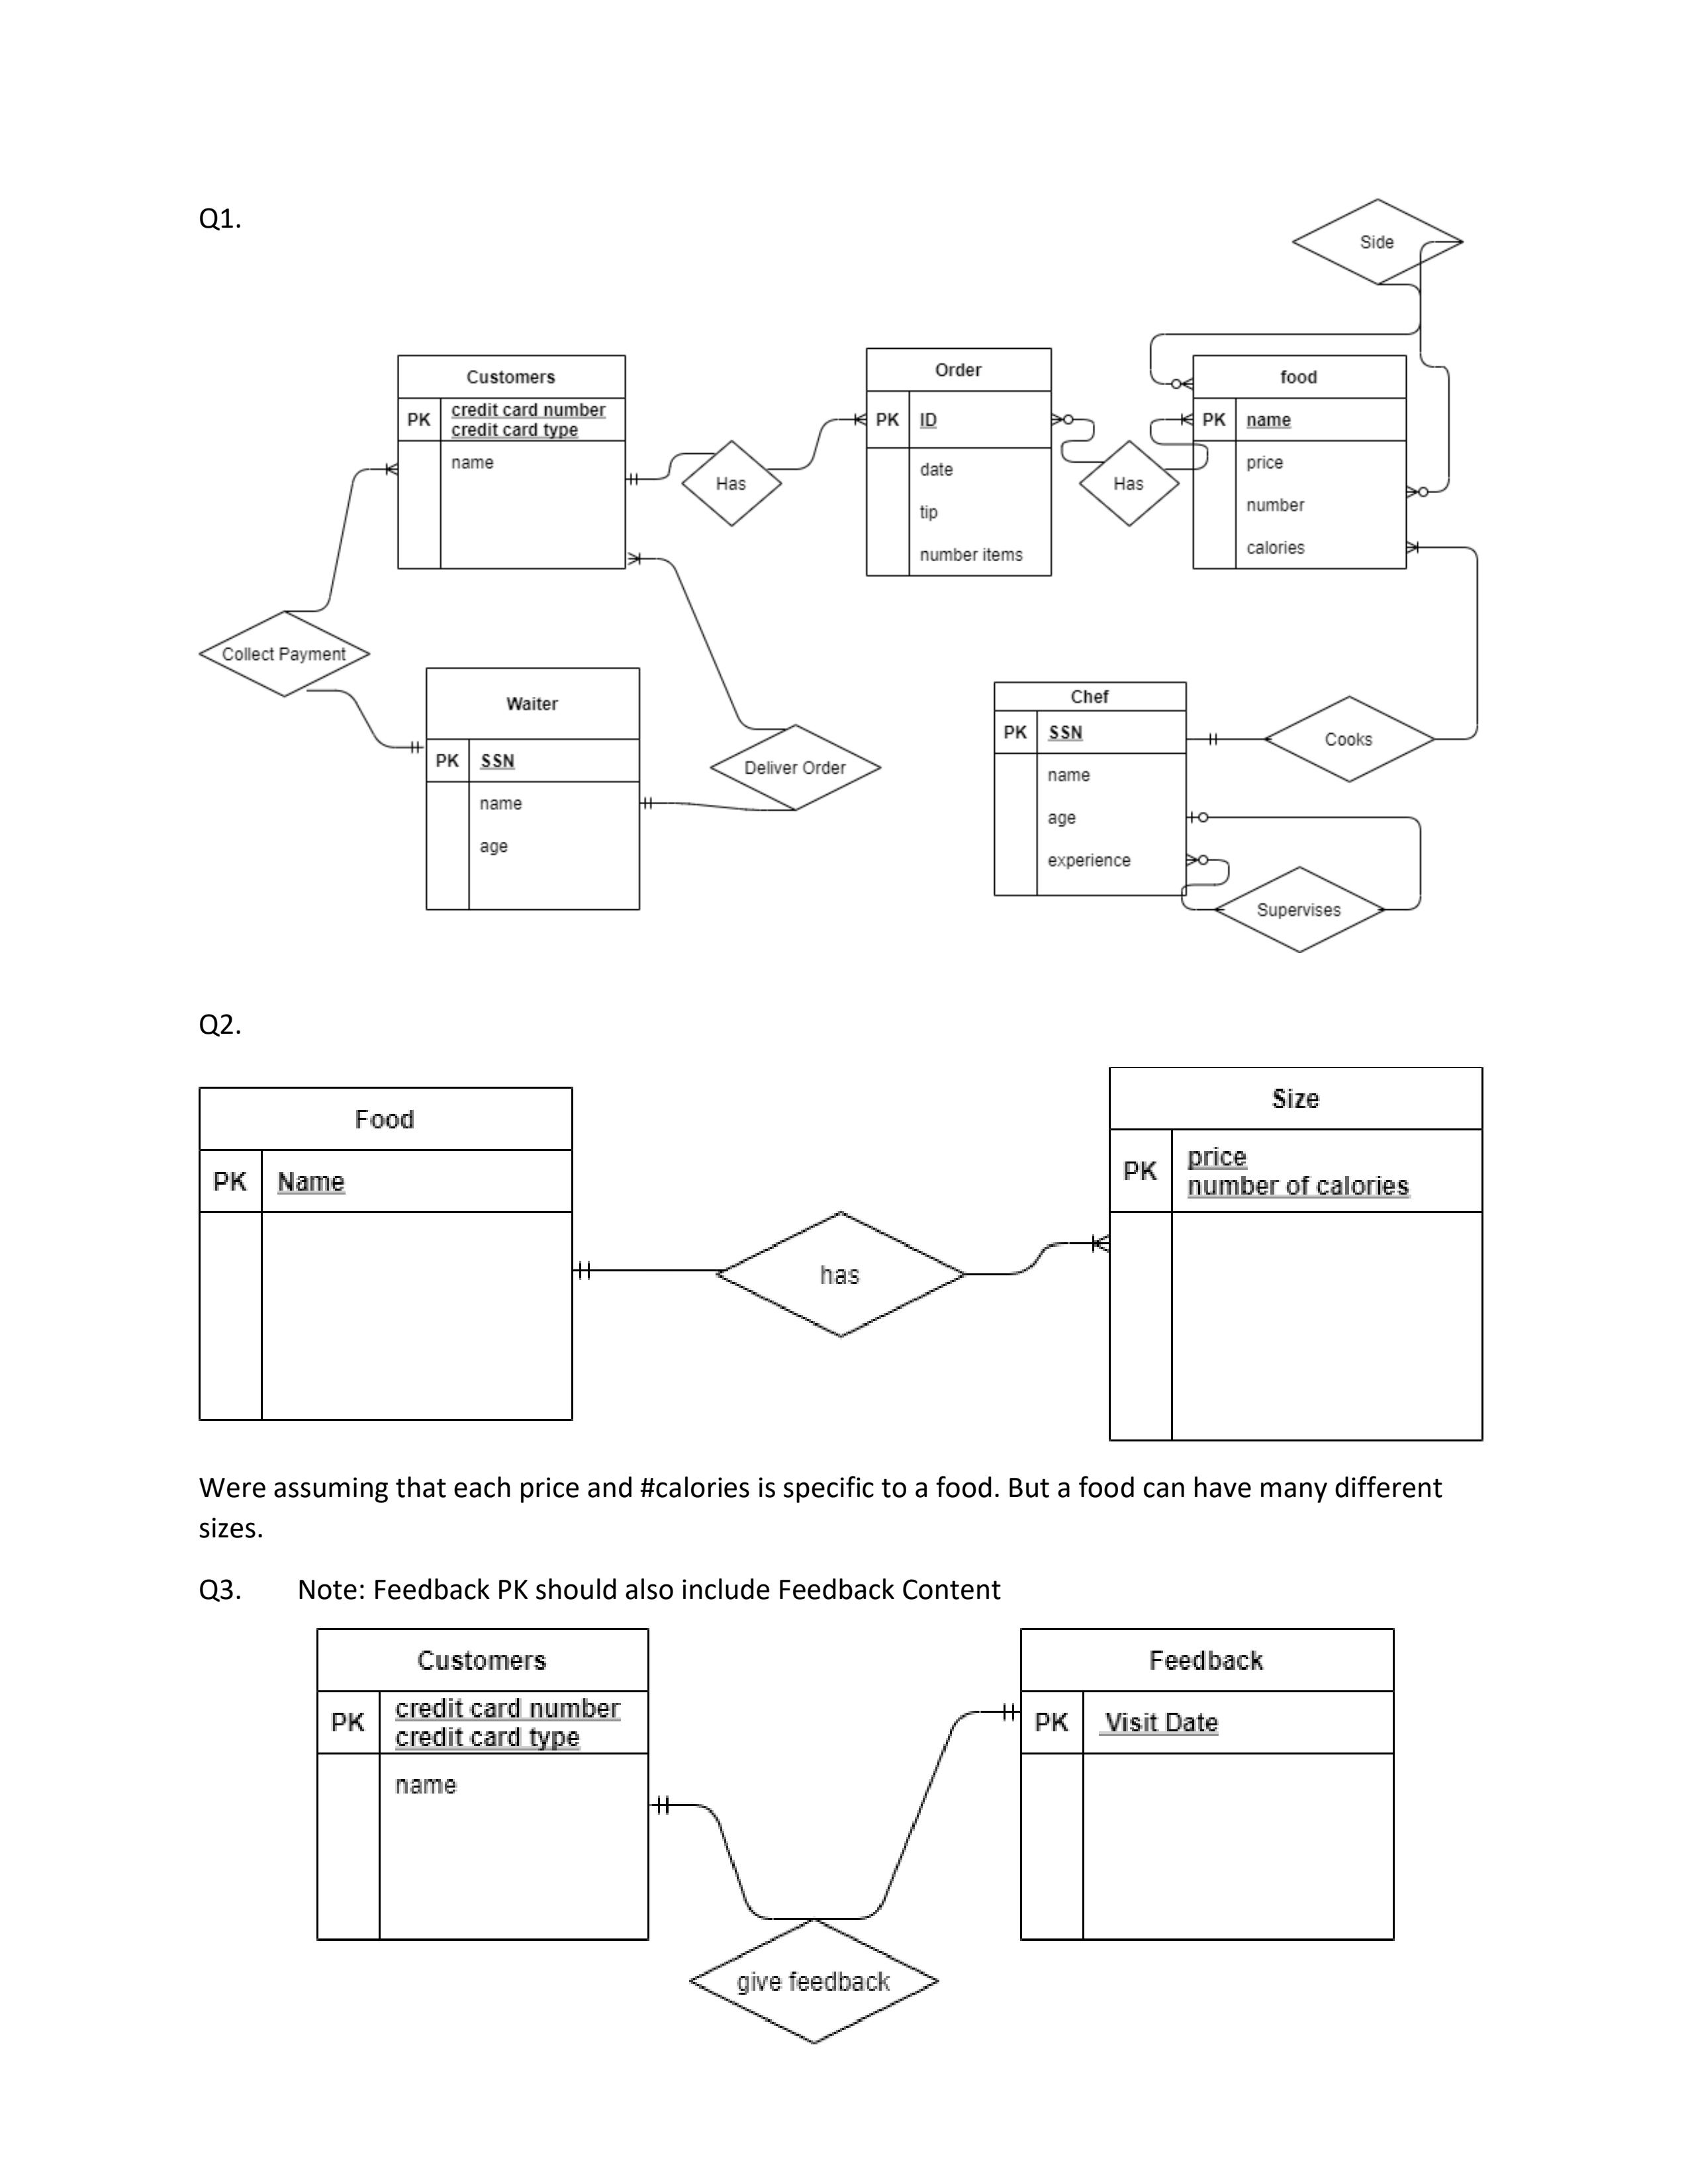Entity: (1101, 1057, 1486, 1445), (195, 1083, 578, 1425), (1027, 1626, 1394, 1943), (309, 1631, 656, 1946), (429, 661, 647, 916), (1188, 349, 1413, 578), (397, 351, 631, 571), (862, 347, 1055, 578), (988, 675, 1186, 899)
Relationship: (715, 1211, 966, 1338), (692, 1915, 945, 2040), (713, 714, 883, 815), (197, 606, 378, 695), (1268, 693, 1434, 784), (1220, 867, 1381, 956), (1294, 197, 1461, 280), (677, 438, 782, 532)
